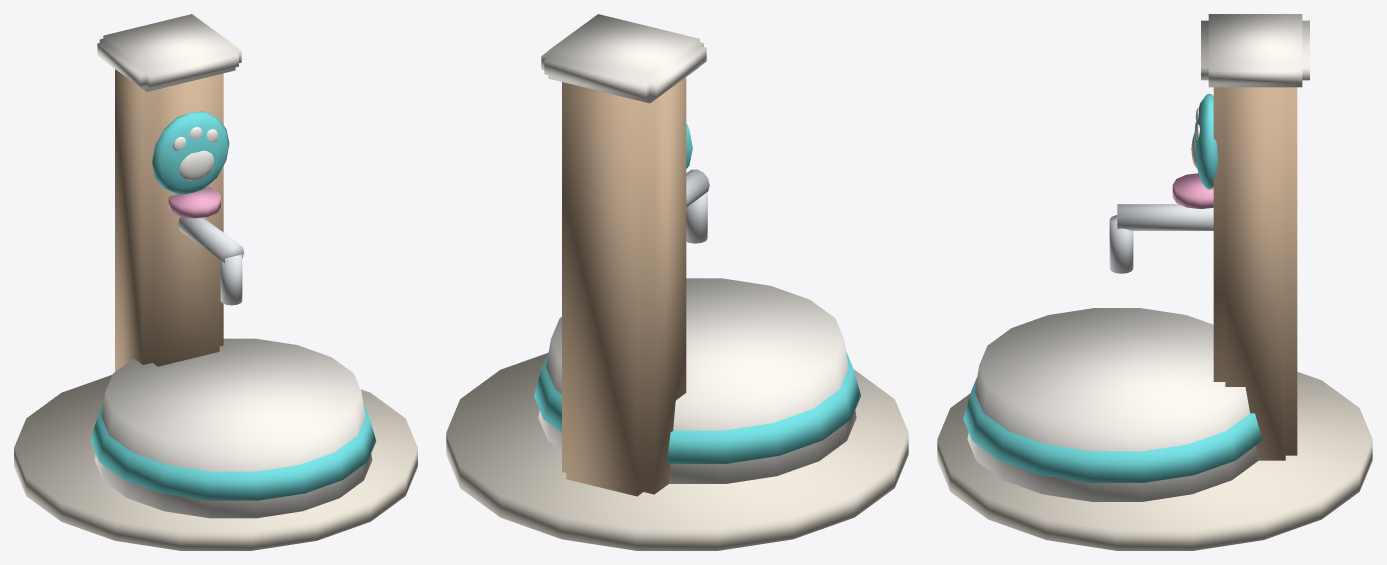
The model's file is PetWaterBowl.fbx.
The picture shows the model from 3 angles, left to right: view 1: azimuth 30°, elevation 25°; view 2: azimuth 150°, elevation 25°; view 3: azimuth 270°, elevation 25°; orthographic projection. The views are drawn at different scales.
Parts seen in each view (by area): view 1: WaterBowl_Base; view 2: WaterBowl_Base; view 3: WaterBowl_Base.
Part boxes in pixels (bbox=[...]): WaterBowl_Base: bbox=[14, 14, 417, 550]; WaterBowl_Base: bbox=[446, 14, 908, 550]; WaterBowl_Base: bbox=[937, 14, 1372, 550].
Size of the model in its own units: 1.02 by 1.11 by 1.04.
